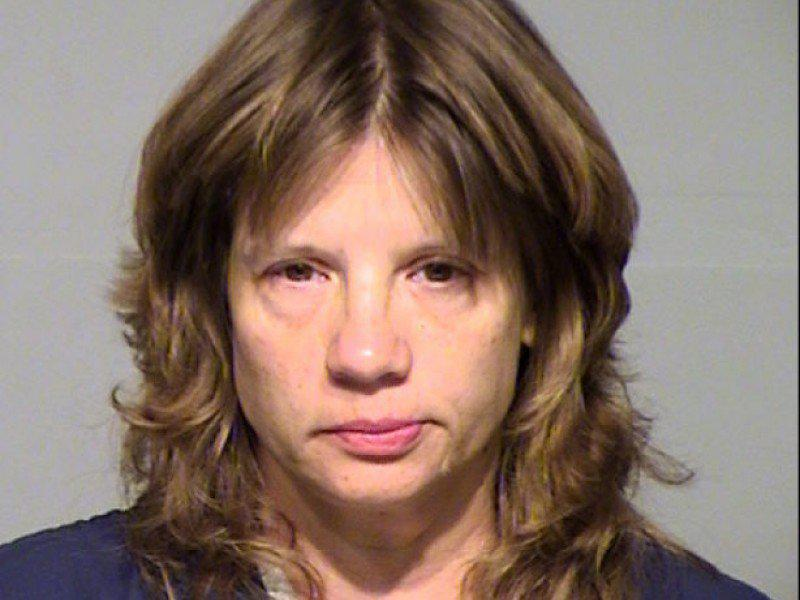Drunk: (253, 174, 504, 486)
